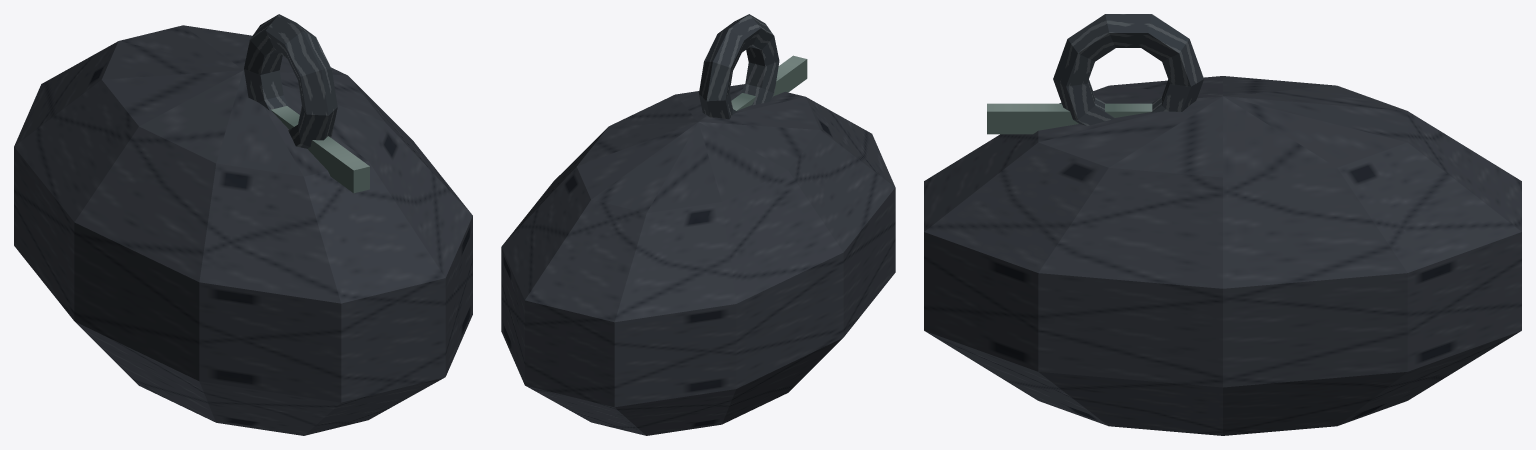
The model's file is MD_117_ComputerMouse.fbx.
3 views of the same model, side by side, from view 1: azimuth 30°, elevation 25°; view 2: azimuth 150°, elevation 25°; view 3: azimuth 270°, elevation 25° (orthographic). The views are drawn at different scales.
Parts seen in each view (by area): view 1: MD_117_ComputerMouse_mouse_body, MD_117_ComputerMouse_scroll_wheel, MD_117_ComputerMouse_button_divide; view 2: MD_117_ComputerMouse_mouse_body, MD_117_ComputerMouse_scroll_wheel, MD_117_ComputerMouse_button_divide; view 3: MD_117_ComputerMouse_mouse_body, MD_117_ComputerMouse_scroll_wheel, MD_117_ComputerMouse_button_divide.
Part boxes in pixels (x1=…): MD_117_ComputerMouse_mouse_body: x1=14, y1=25, x2=472, y2=435; MD_117_ComputerMouse_scroll_wheel: x1=244, y1=14, x2=337, y2=148; MD_117_ComputerMouse_button_divide: x1=271, y1=106, x2=369, y2=193; MD_117_ComputerMouse_mouse_body: x1=501, y1=84, x2=895, y2=435; MD_117_ComputerMouse_scroll_wheel: x1=699, y1=14, x2=779, y2=119; MD_117_ComputerMouse_button_divide: x1=731, y1=55, x2=807, y2=110; MD_117_ComputerMouse_mouse_body: x1=924, y1=76, x2=1521, y2=435; MD_117_ComputerMouse_scroll_wheel: x1=1053, y1=14, x2=1203, y2=125; MD_117_ComputerMouse_button_divide: x1=987, y1=103, x2=1152, y2=134.
Bounding box in the file's own units: 0.0618 × 0.0704 × 0.095.
Materials: 3 (3 with a texture image).
